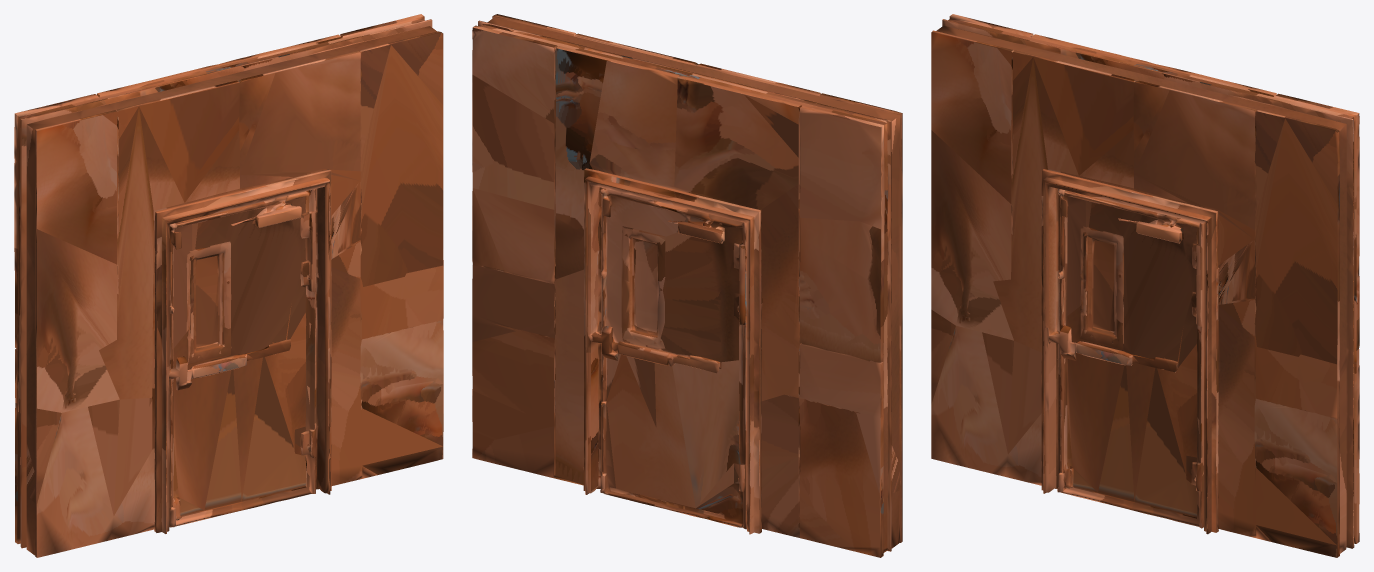
File: Env_FireDoorWall_3m_Repaired.fbx
3 renders of one model, left to right at view 1: azimuth 30°, elevation 25°; view 2: azimuth 150°, elevation 25°; view 3: azimuth 330°, elevation 25°, orthographic.
Visible parts, largest first — view 1: texture_mapping; view 2: texture_mapping; view 3: texture_mapping.
Boxes of the visible parts, <box> form: texture_mapping: <box>14,14,443,557</box>; texture_mapping: <box>472,14,902,557</box>; texture_mapping: <box>931,14,1359,557</box>.
Bounding box in the file's own units: 99.76 × 99.67 × 17.09.
